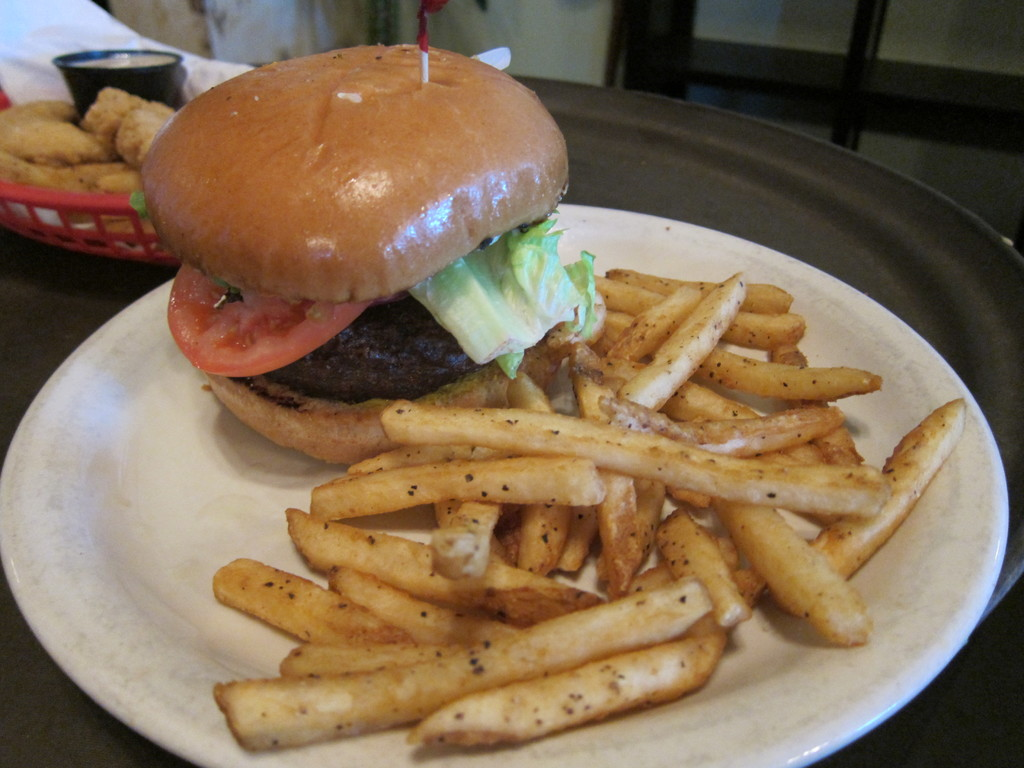French fries: (254, 255, 941, 748)
